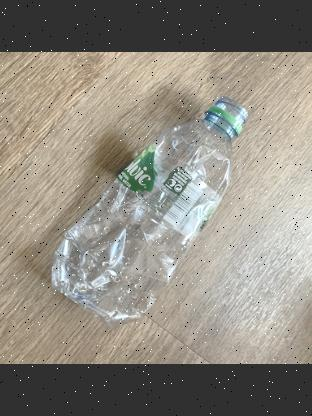Plastic Bottle: (50, 95, 249, 327)
